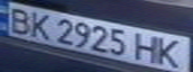2: (51, 16, 78, 46), (90, 22, 112, 55)
5: (109, 26, 133, 59)
9: (69, 19, 93, 49)
B: (3, 5, 36, 35)
H: (133, 33, 163, 64)
K: (154, 36, 190, 70), (24, 9, 57, 40)
